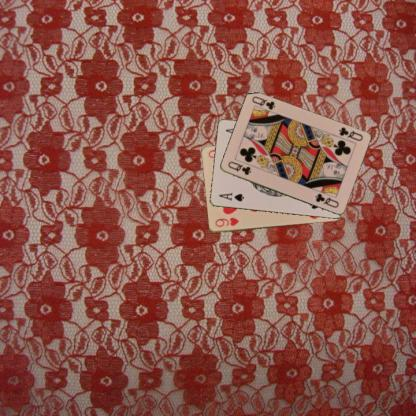9h: (213, 215, 240, 228)
As: (216, 190, 245, 202)
Qc: (336, 125, 364, 142), (225, 159, 252, 176)
